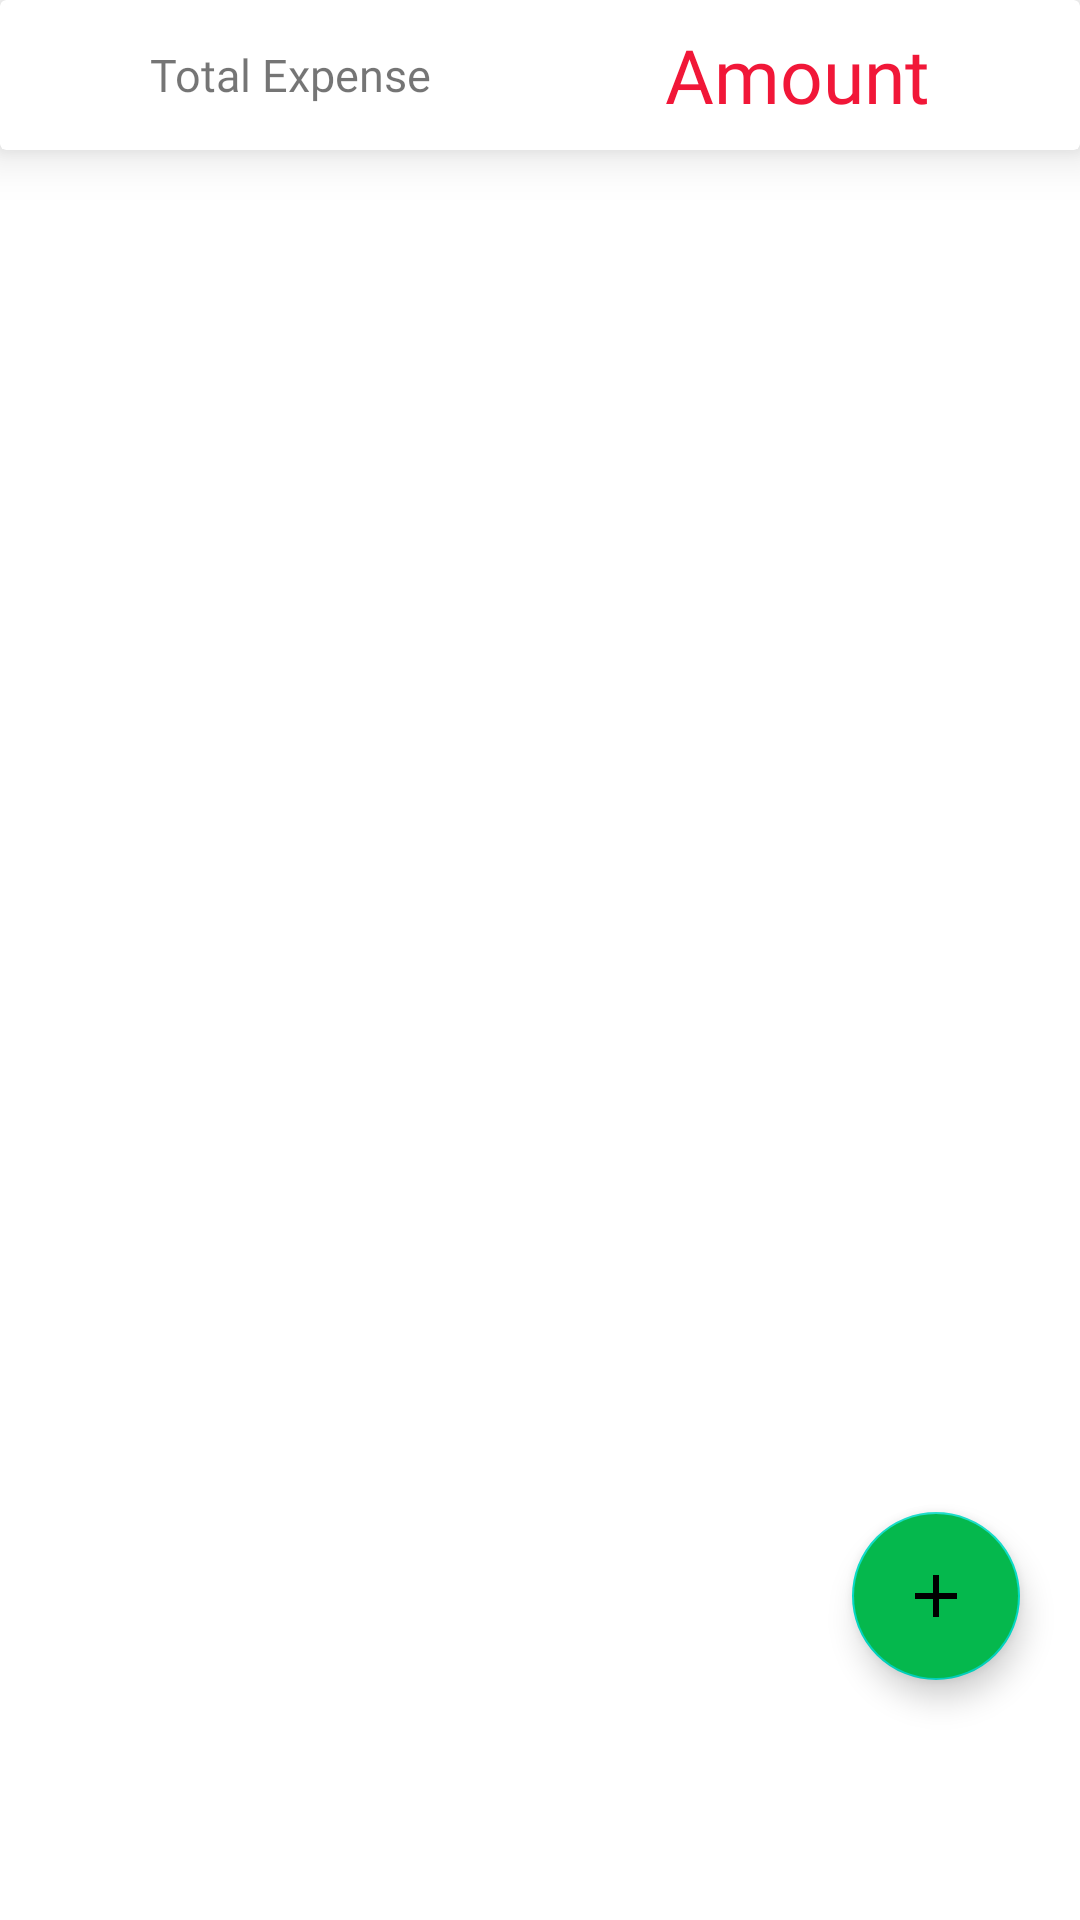

Where icons sit on this 1080w x 1920h app screen, as (x1, y1, x2, y2):
add: (852, 1512, 1020, 1680)
